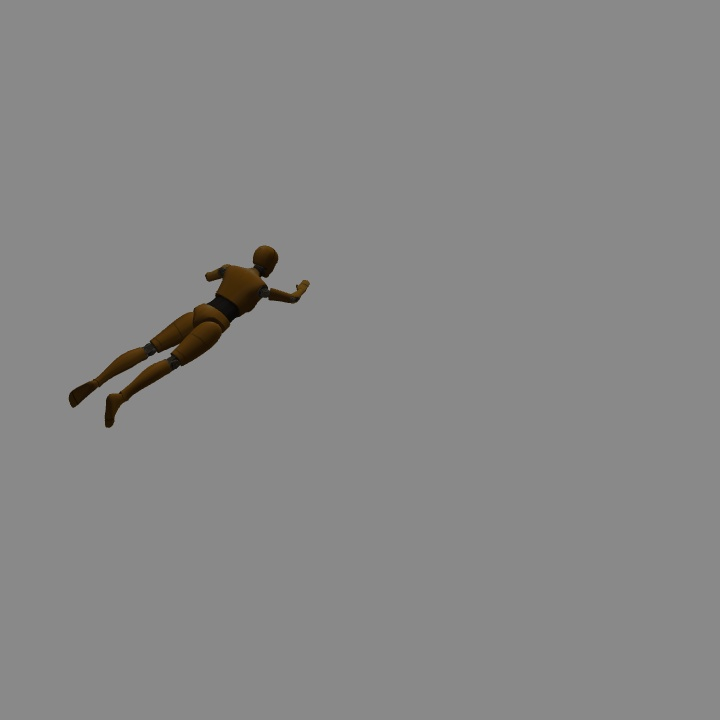victim: (81, 243, 278, 424)
